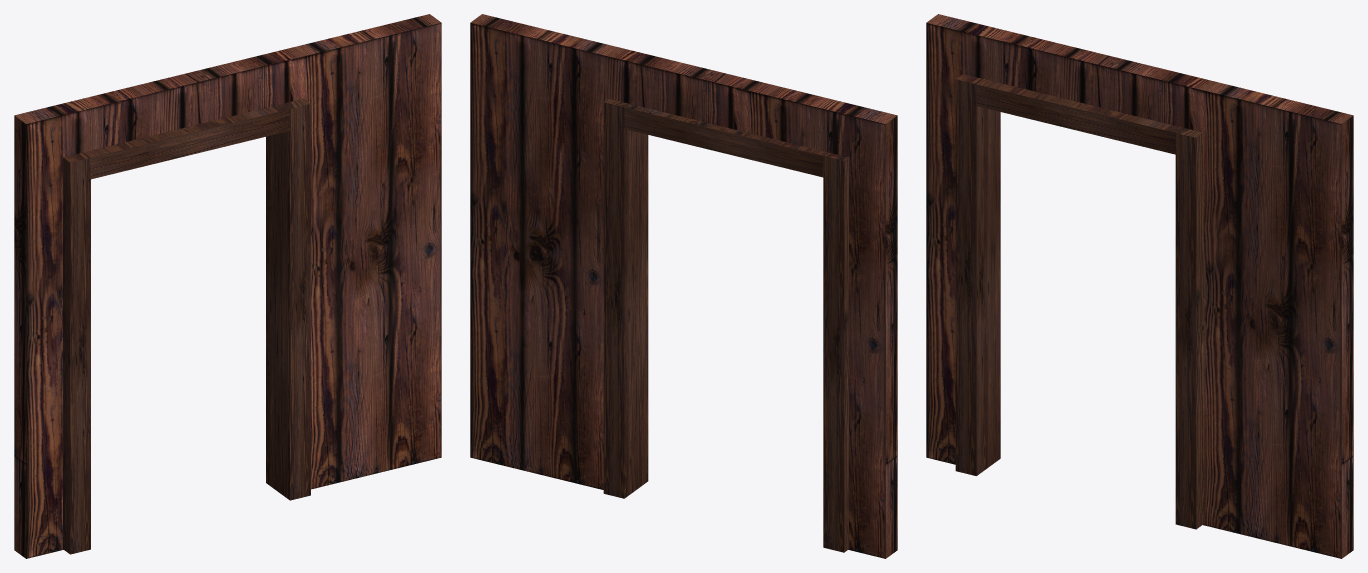
The model's file is ShackWallEntrance.fbx.
3 renders of one model, left to right at view 1: azimuth 30°, elevation 25°; view 2: azimuth 150°, elevation 25°; view 3: azimuth 330°, elevation 25°, orthographic.
Visible parts, largest first — view 1: ShackWallEntrance; view 2: ShackWallEntrance; view 3: ShackWallEntrance.
Boxes of the visible parts, x1=… form: ShackWallEntrance: x1=14, y1=14, x2=441, y2=558; ShackWallEntrance: x1=470, y1=14, x2=897, y2=558; ShackWallEntrance: x1=926, y1=14, x2=1353, y2=558.
Bounding box in the file's own units: 200 × 200 × 20.
